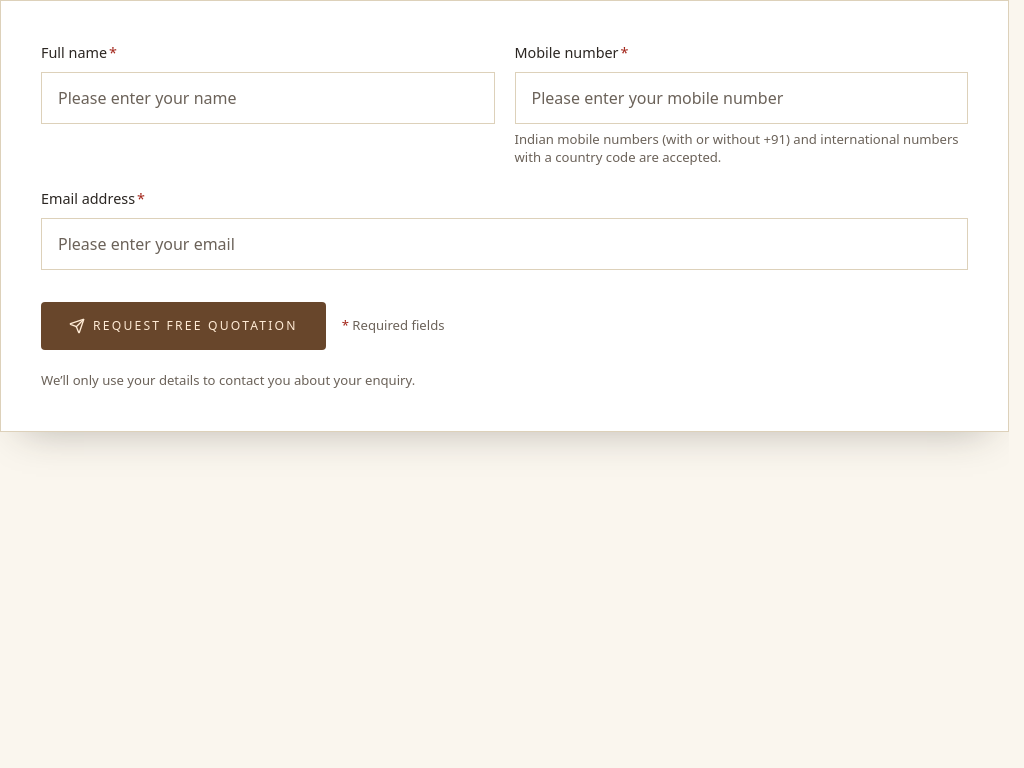
client-side validation › blocks submission when only the name is missing
Type "99496 21569" into the field labelled "Mobile number*".
click(741, 98); type("99496 21569")  # box [514,72,968,124]
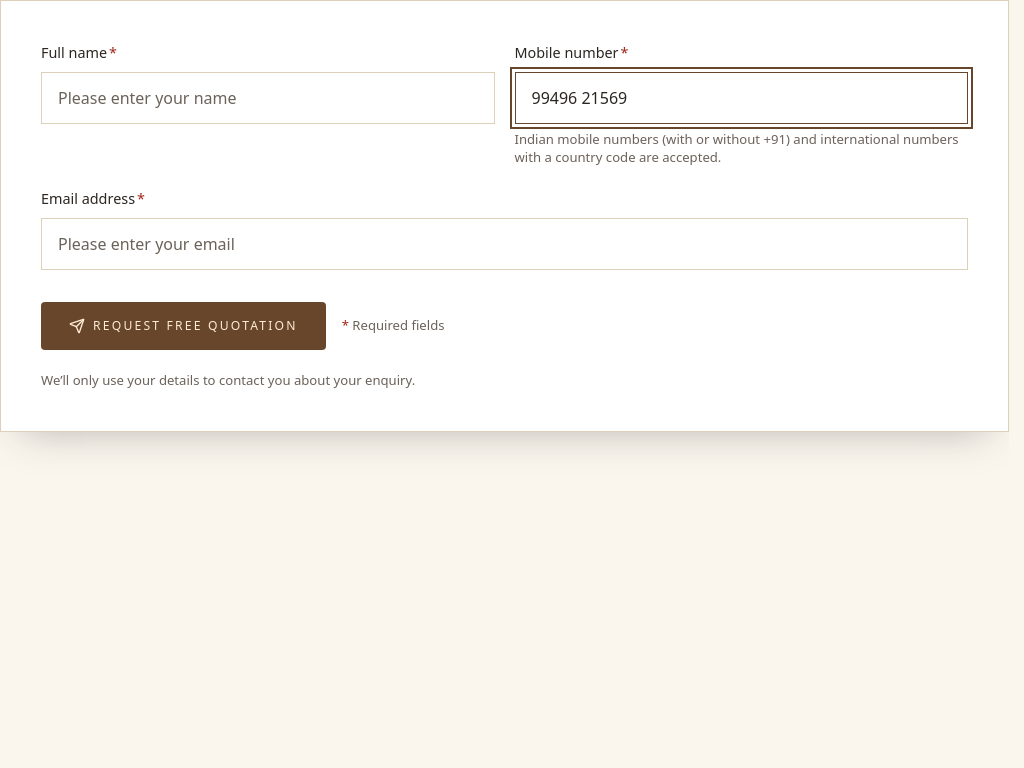
Type "asha@example.com" into the field labelled "Email address*".
click(504, 244); type("asha@example.com")  # box [41,218,968,270]
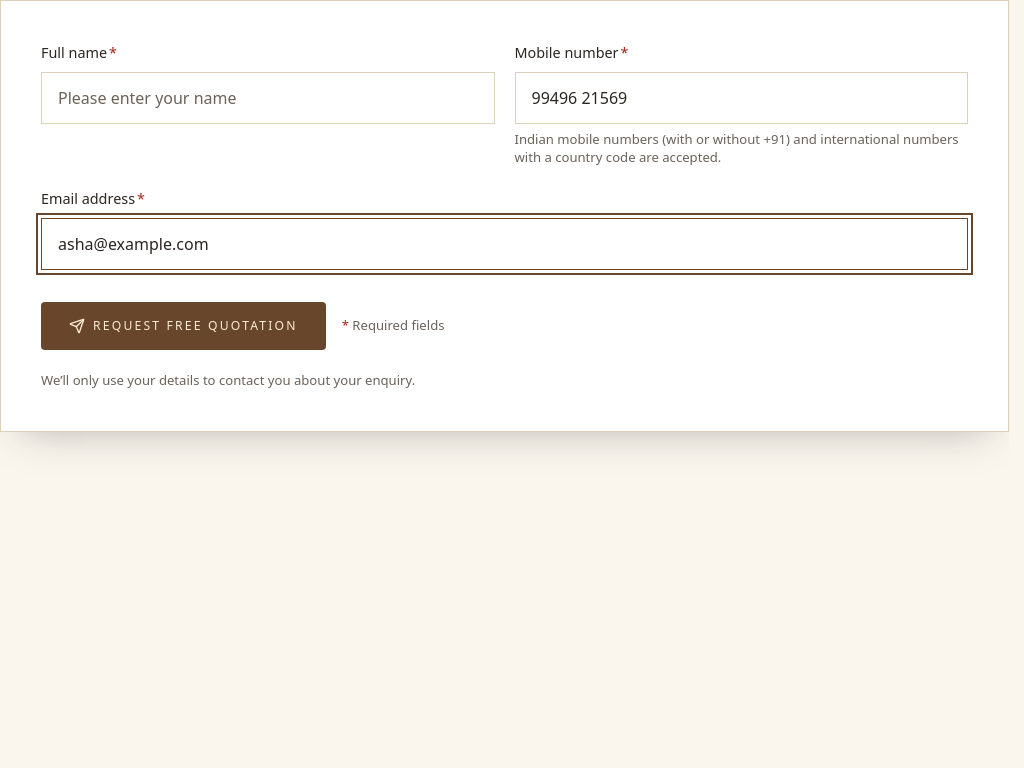
Click the button "Request free quotation".
click(183, 326)  # box [41,302,326,350]
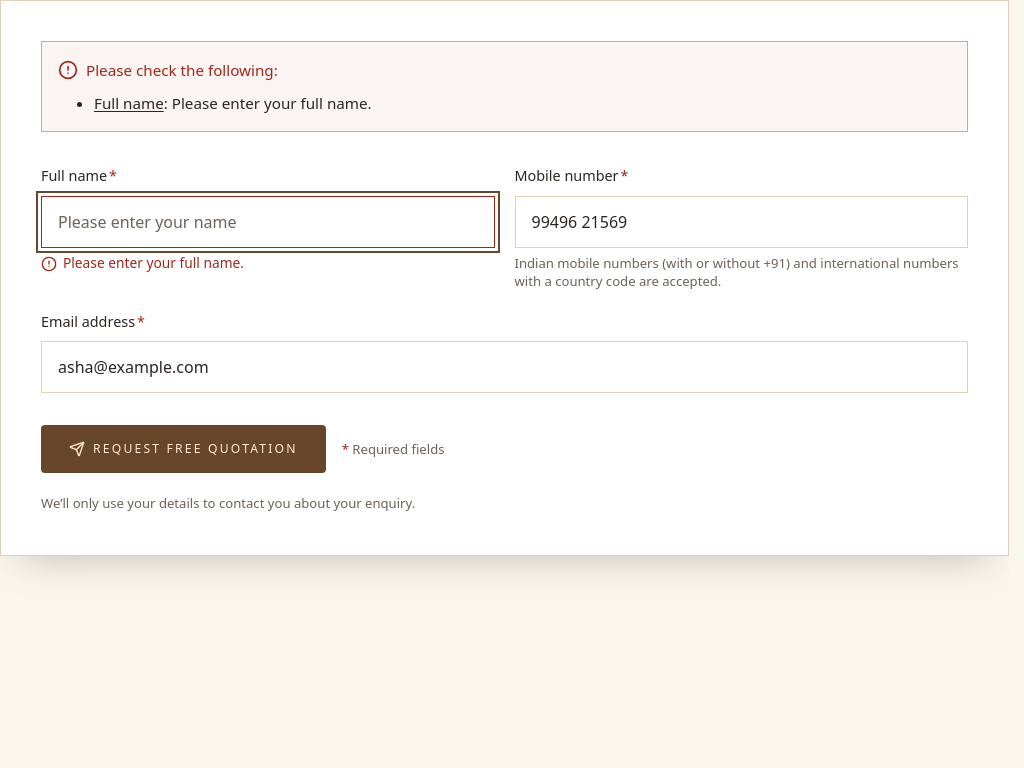
Check: the message with test id "error-summary" shows "Please enter your full name", box [172,93,372,113]
